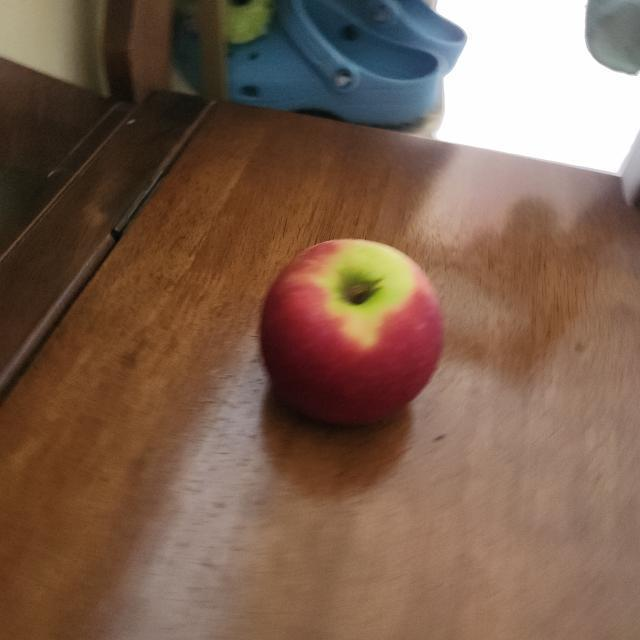apple: (247, 231, 448, 443)
